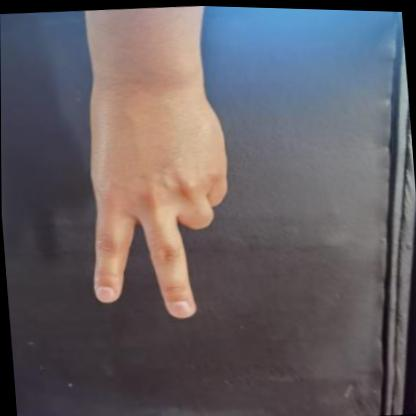N: (64, 72, 257, 326)
